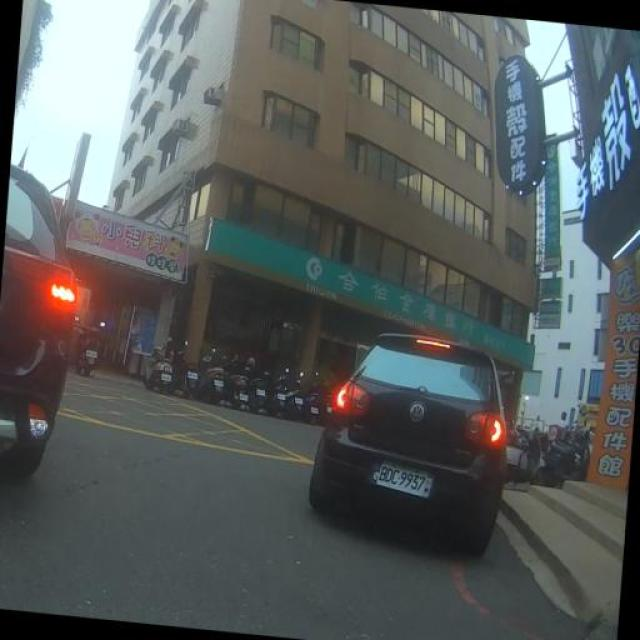illegalparking: (312, 310, 532, 565)
